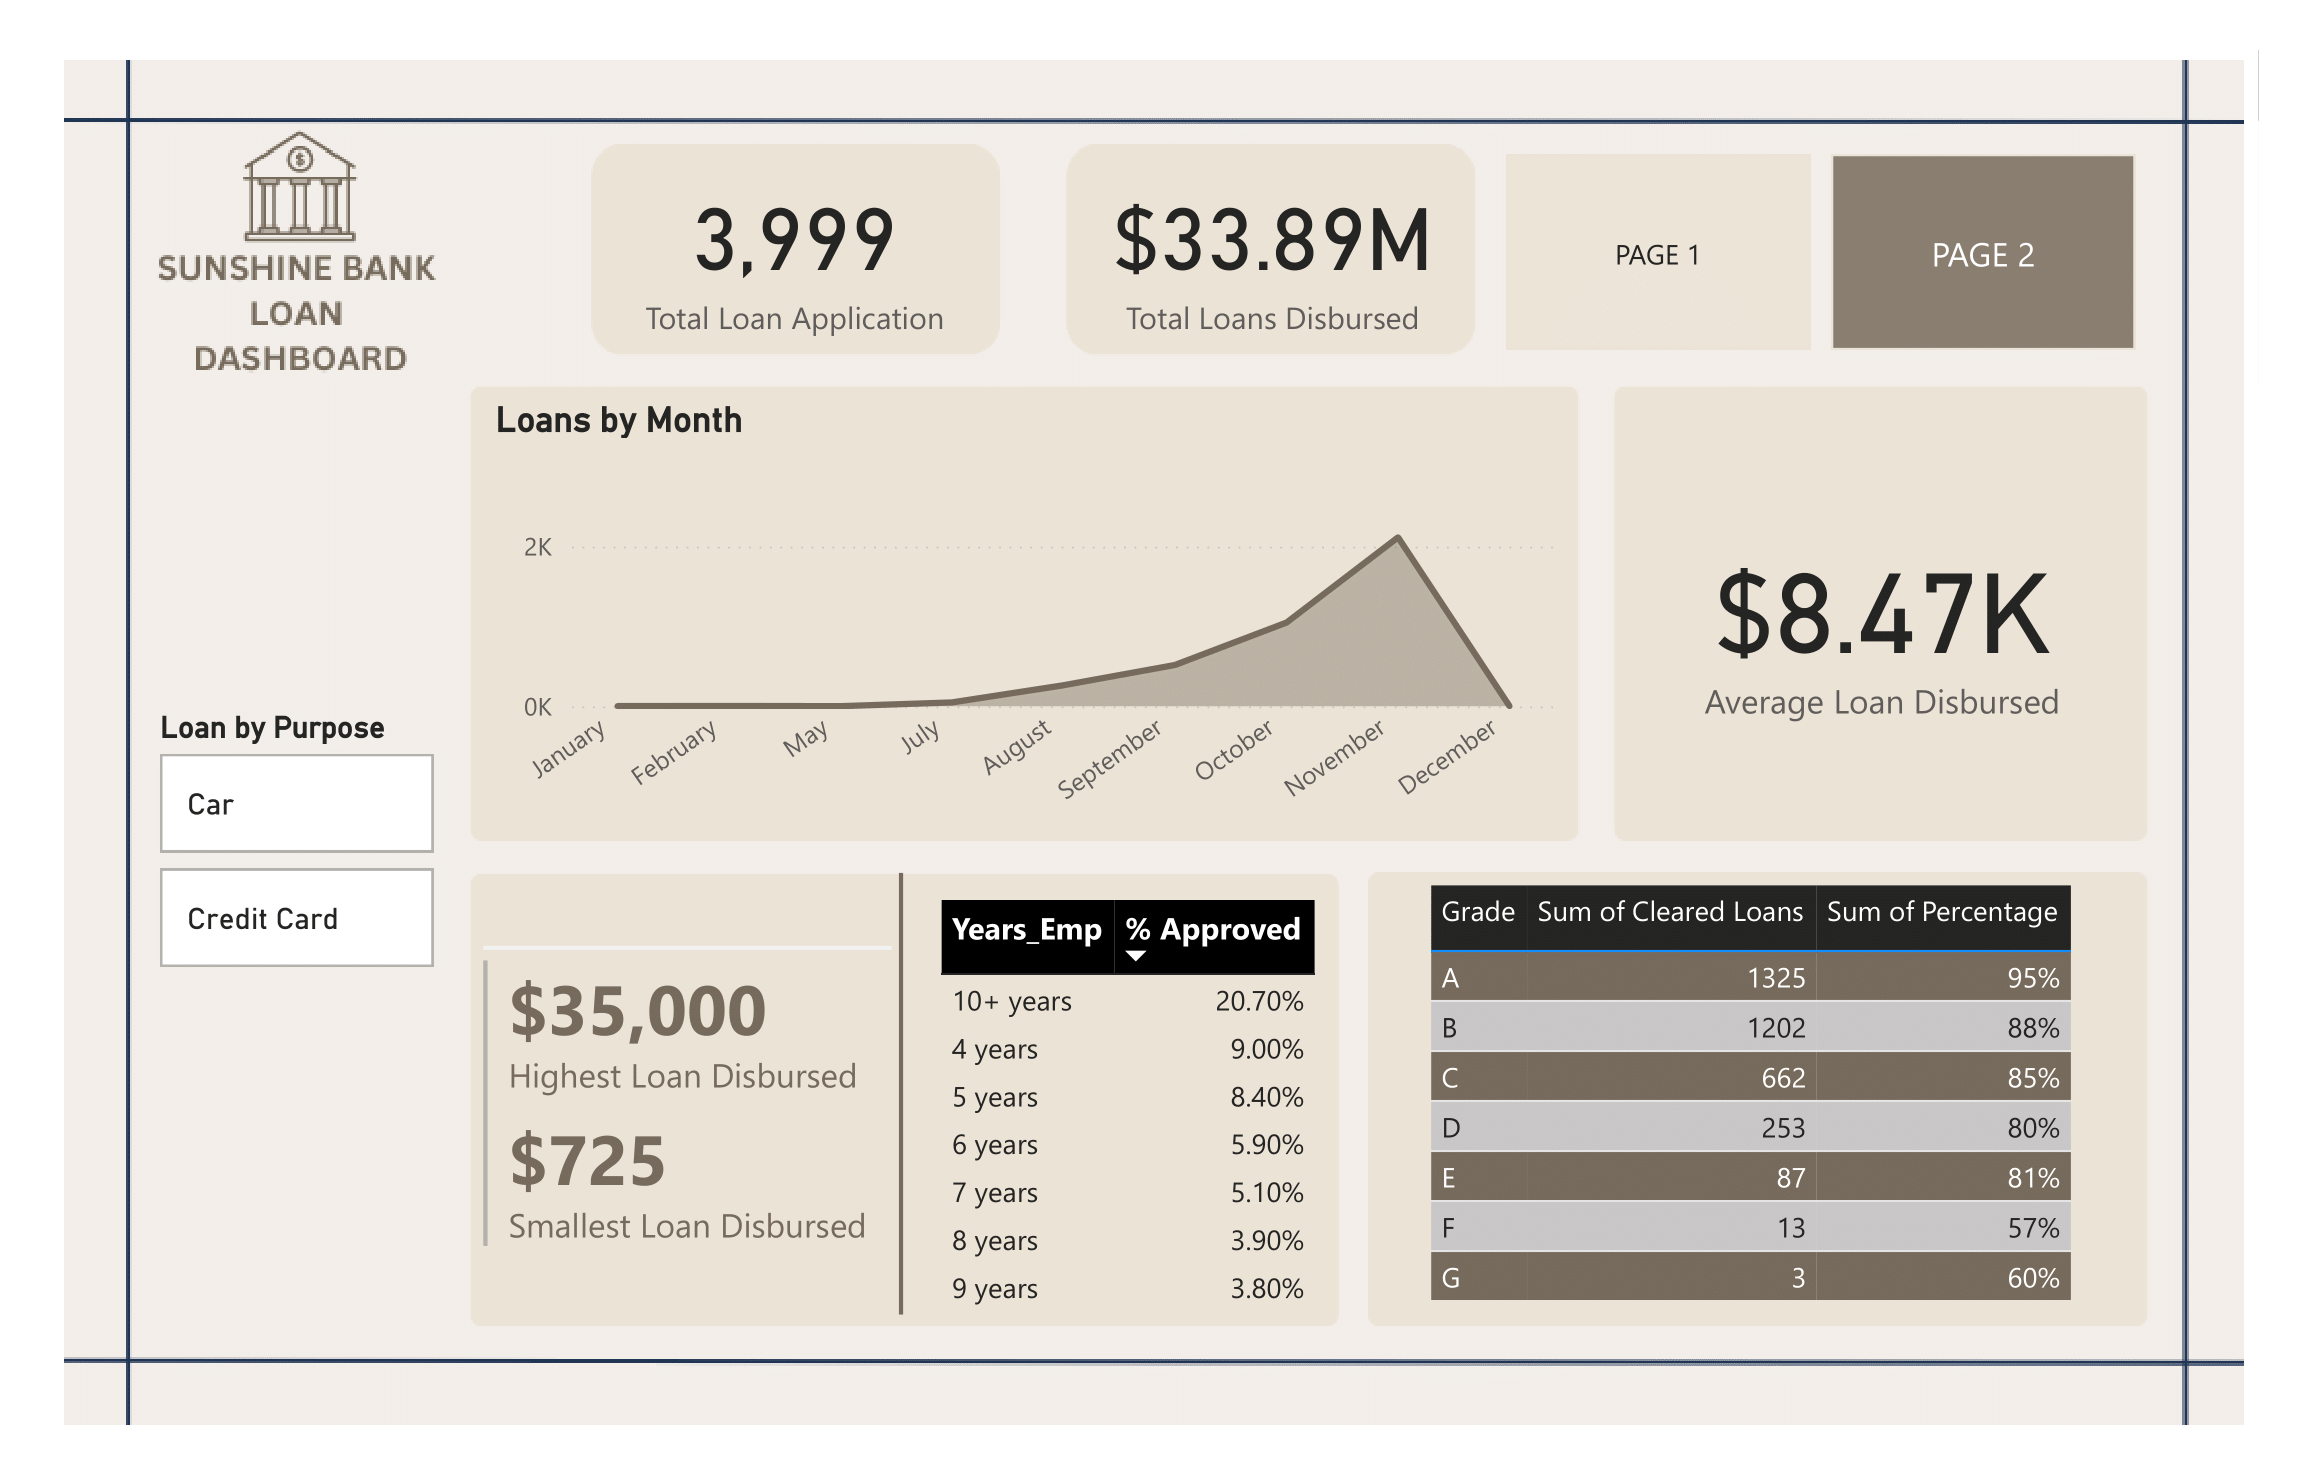

What the dashboard file says about the page in this screenshot:
{"tool":"powerbi","page":{"name":"PAGE 2","canvas":[1060,664],"ordinal":1},"visuals":[{"type":"image","box":[0,0,1059.7,665.3],"z":0},{"type":"card","fields":{"Values":["Regions_Table.Total Loan Application"]},"box":[262.9,50.5,188.6,93],"z":1000},{"type":"card","fields":{"Values":["Calculated Measures.Total Loans Disbursed"]},"box":[492.7,50.5,188.6,93],"z":2000},{"type":"pageNavigator","box":[698.8,50.3,303.5,93.3],"z":3000},{"type":"stackedAreaChart","title":"Loans by Month ","fields":{"Category":["Sunshine_Loan_Query.Issue_Date.Variation.Date Hierarchy.Month"],"Y":["CountNonNull(Sunshine_Loan_Query.Loan_Id)"]},"box":[208.7,167.3,518.2,213.2],"z":4000},{"type":"advancedSlicerVisual","title":"Loan by Purpose","fields":{"Values":["Sunshine_Loan_Query.Loan_Purpose"]},"box":[47.8,317.4,140.8,127.5],"z":5000},{"type":"card","fields":{"Values":["Calculated Measures.Average Loan Disbursed"]},"box":[755.6,167.3,247,213.8],"z":6000},{"type":"tableEx","fields":{"Values":["Bank Grading.Grade","Sum(Bank Grading.Cleared Loans)","Sum(Bank Grading.Percentage)"]},"box":[657.4,395.7,345.3,211.2],"z":7000},{"type":"shape","box":[198.4,395.3,420.4,211.7],"z":8000},{"type":"multiRowCard","fields":{"Values":["Calculated Measures.Highest Loan Amount","Calculated Measures.Smallest Loan Amount"]},"box":[202.8,424.9,205.8,154],"z":9000},{"type":"tableEx","fields":{"Values":["Employed.Years_Emp","Employed.% Approved"]},"box":[421.9,402.7,207.3,216.1],"z":10000}]}

Visuals, with their boxes in screenshot pixels (x1, y1, x2, y2):
image: region(50, 50, 2257, 1434)
card - Regions_Table.Total Loan Application: region(598, 155, 990, 349)
card - Calculated Measures.Total Loans Disbursed: region(1076, 155, 1469, 349)
pageNavigator: region(1506, 155, 2138, 349)
"Loans by Month " stackedAreaChart: region(485, 399, 1564, 843)
"Loan by Purpose" advancedSlicerVisual: region(150, 712, 443, 977)
card - Calculated Measures.Average Loan Disbursed: region(1624, 399, 2138, 844)
tableEx - Bank Grading.Grade x Sum(Bank Grading.Cleared Loans): region(1419, 875, 2139, 1315)
shape: region(463, 874, 1339, 1315)
multiRowCard - Calculated Measures.Highest Loan Amount x Calculated Measures.Smallest Loan Amount: region(472, 936, 901, 1257)
tableEx - Employed.Years_Emp x Employed.% Approved: region(929, 889, 1361, 1340)
